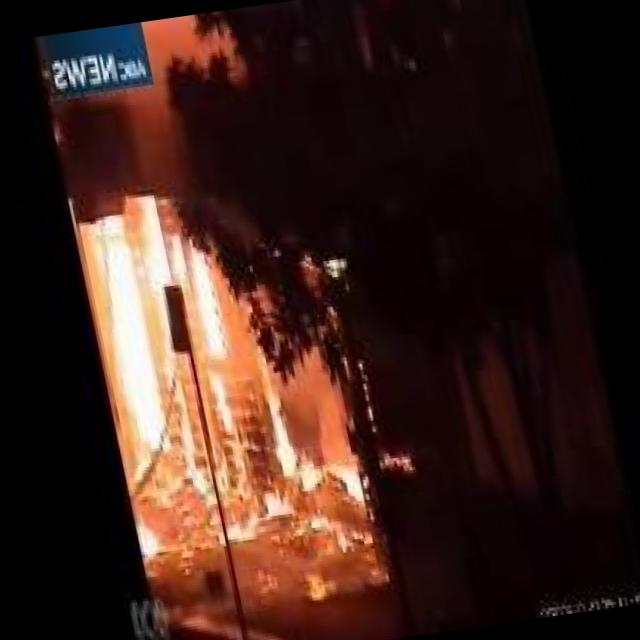fire: (69, 192, 211, 486), (160, 225, 253, 458), (248, 378, 365, 521), (197, 481, 299, 553), (122, 506, 167, 564), (367, 440, 422, 483)
